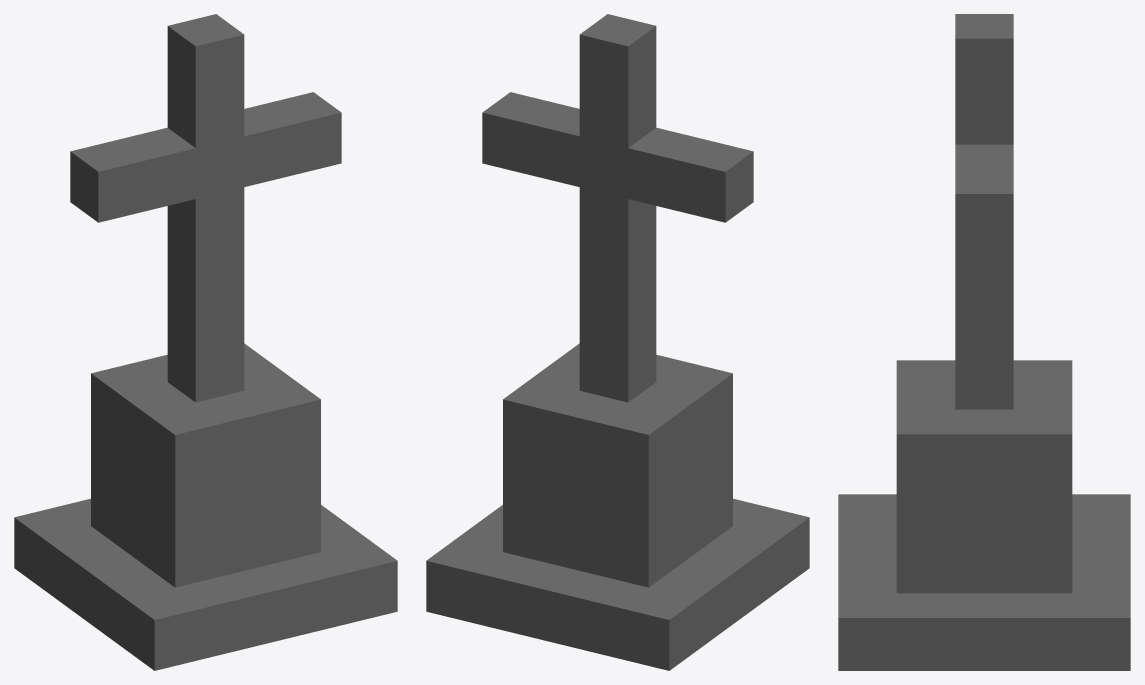
The model's file is grave.dae.
The picture shows the model from 3 angles, left to right: view 1: azimuth 30°, elevation 25°; view 2: azimuth 150°, elevation 25°; view 3: azimuth 270°, elevation 25°; orthographic projection. The views are drawn at different scales.
Visible parts, largest first — view 1: grave; view 2: grave; view 3: grave.
Boxes of the visible parts, box(x1,y1,x2,y2) form: grave: box(14, 14, 397, 670); grave: box(426, 14, 809, 670); grave: box(838, 14, 1130, 670).
Bounding box in the file's own units: 0.5 × 1.1 × 0.5.
1 material, 1 textured.
